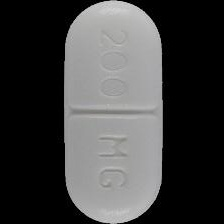21695-235: (0, 0, 224, 224)
